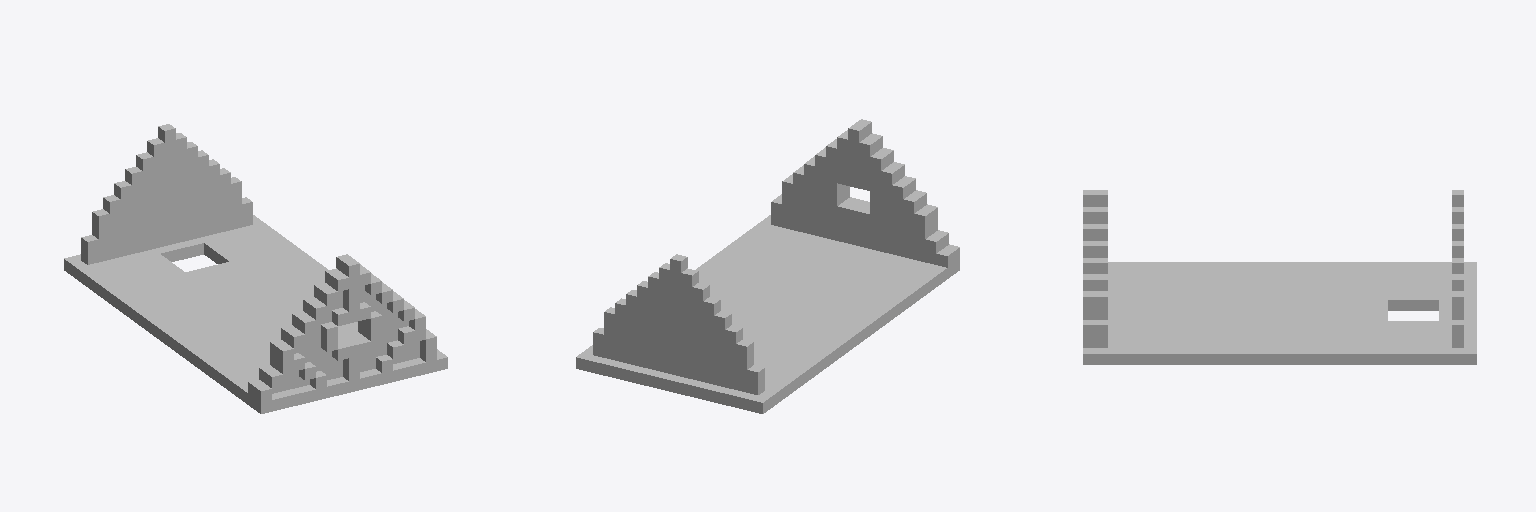
The model's file is Farm House-4.obj.
3 renders of one model, left to right at view 1: azimuth 30°, elevation 25°; view 2: azimuth 150°, elevation 25°; view 3: azimuth 270°, elevation 25°, orthographic.
Parts seen in each view (by area): view 1: object 1; view 2: object 1; view 3: object 1.
Boxes of the visible parts, box(x1,y1,x2,y2) form: object 1: box(64, 124, 447, 413); object 1: box(576, 119, 959, 413); object 1: box(1083, 190, 1476, 364).
Bounding box in the file's own units: 1.7 × 1.1 × 3.1.